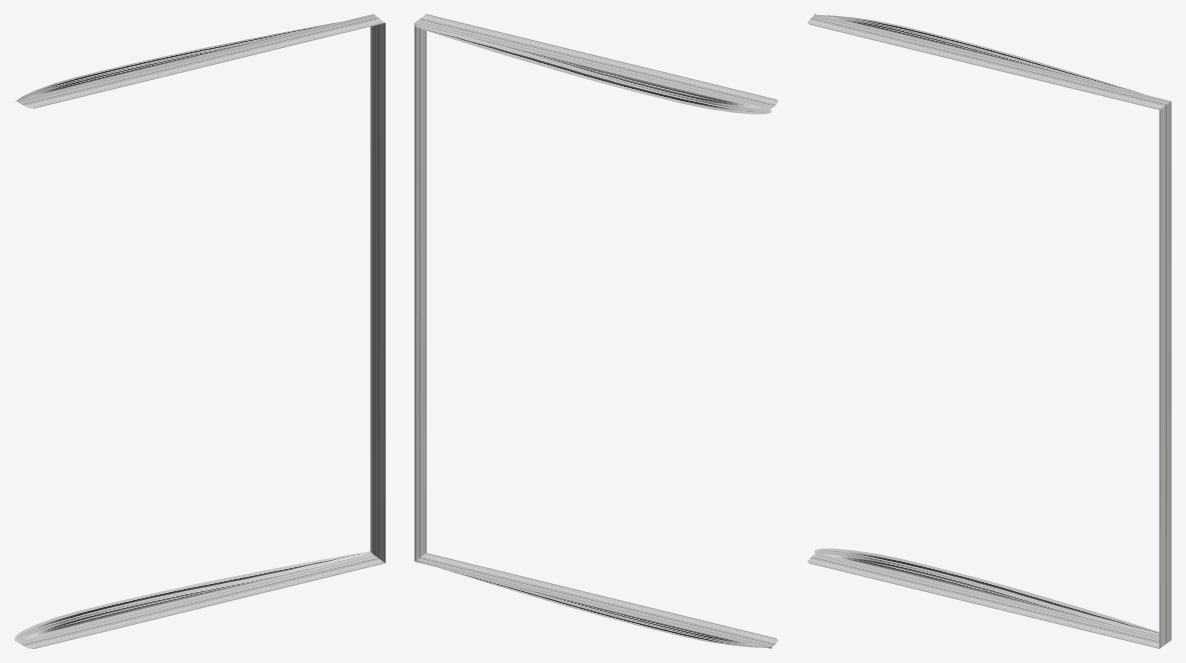
Rendered from MeshBookFront_23_1_GeomSubset_1.obj.
3 renders of one model, left to right at view 1: azimuth 30°, elevation 25°; view 2: azimuth 150°, elevation 25°; view 3: azimuth 330°, elevation 25°, orthographic.
Visible parts, largest first — view 1: MeshBookFront_23_1_GeomSubset_1; view 2: MeshBookFront_23_1_GeomSubset_1; view 3: MeshBookFront_23_1_GeomSubset_1.
Part boxes in pixels (x1,y1,x2,y2): MeshBookFront_23_1_GeomSubset_1: (14,14,385,648); MeshBookFront_23_1_GeomSubset_1: (414,14,778,648); MeshBookFront_23_1_GeomSubset_1: (807,14,1171,648).
Bounding box in the file's own units: 0.2157 × 0.3109 × 0.0261.
